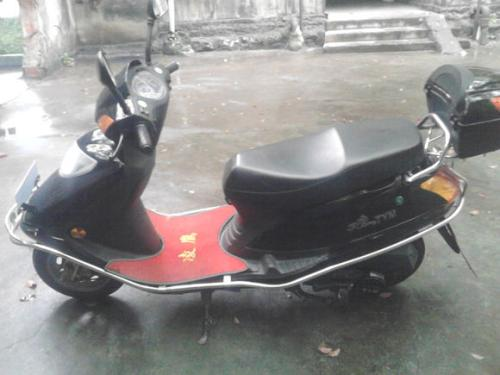motor: (25, 63, 493, 327)
